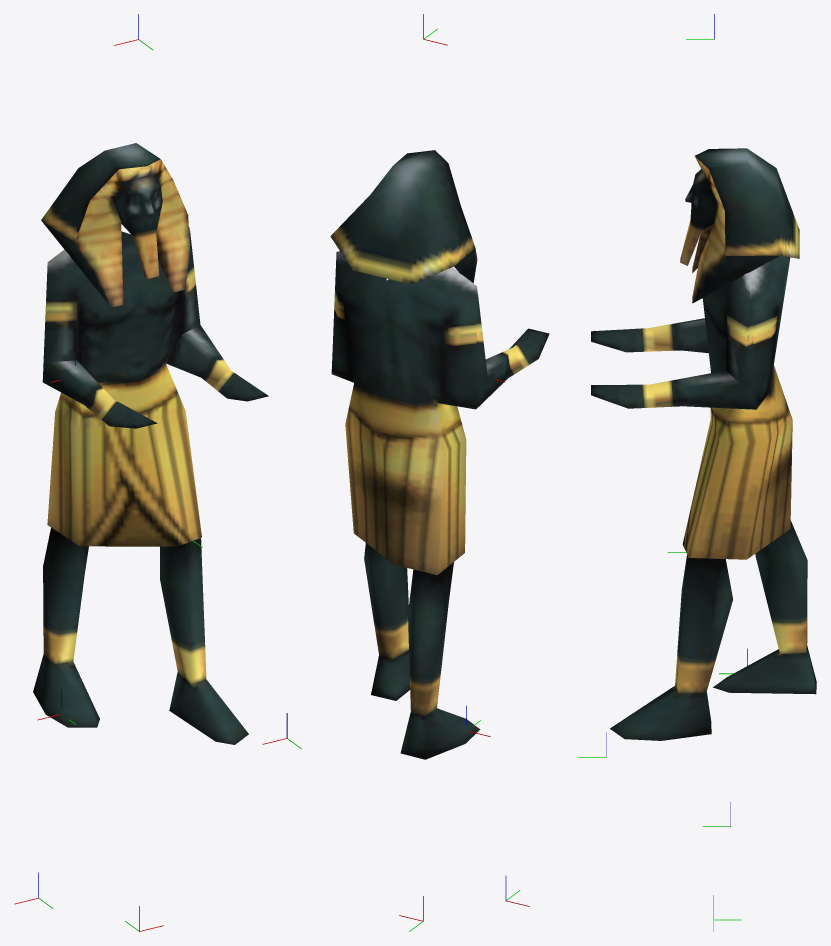
Rendered from egyptian-monument-to-priests.glb.
3 views of the same model, side by side, from view 1: azimuth 30°, elevation 25°; view 2: azimuth 150°, elevation 25°; view 3: azimuth 270°, elevation 25° (orthographic).
Parts seen in each view (by area): view 1: building e monument3Model; view 2: building e monument3Model; view 3: building e monument3Model.
Boxes of the visible parts, <box> form: building e monument3Model: <box>33,143,268,744</box>; building e monument3Model: <box>330,150,549,759</box>; building e monument3Model: <box>591,148,816,740</box>.
Bounding box in the file's own units: 2.14 × 8.94 × 2.13.
2 materials, 1 textured.
